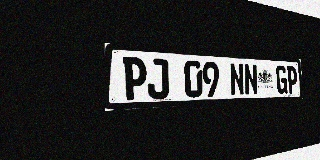0: (184, 60, 203, 98)
9: (202, 61, 220, 97)
G: (276, 65, 287, 94)
J: (147, 58, 169, 99)
N: (229, 63, 244, 96), (244, 63, 258, 95)
P: (123, 57, 147, 100), (287, 66, 298, 94)
